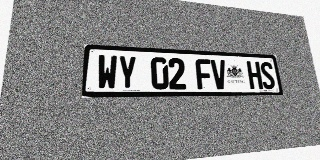0: (151, 57, 169, 90)
2: (168, 58, 186, 89)
F: (195, 59, 213, 89)
H: (246, 61, 263, 89)
S: (259, 62, 276, 89)
V: (210, 59, 228, 89)
W: (97, 54, 117, 90)
Y: (118, 55, 137, 90)
